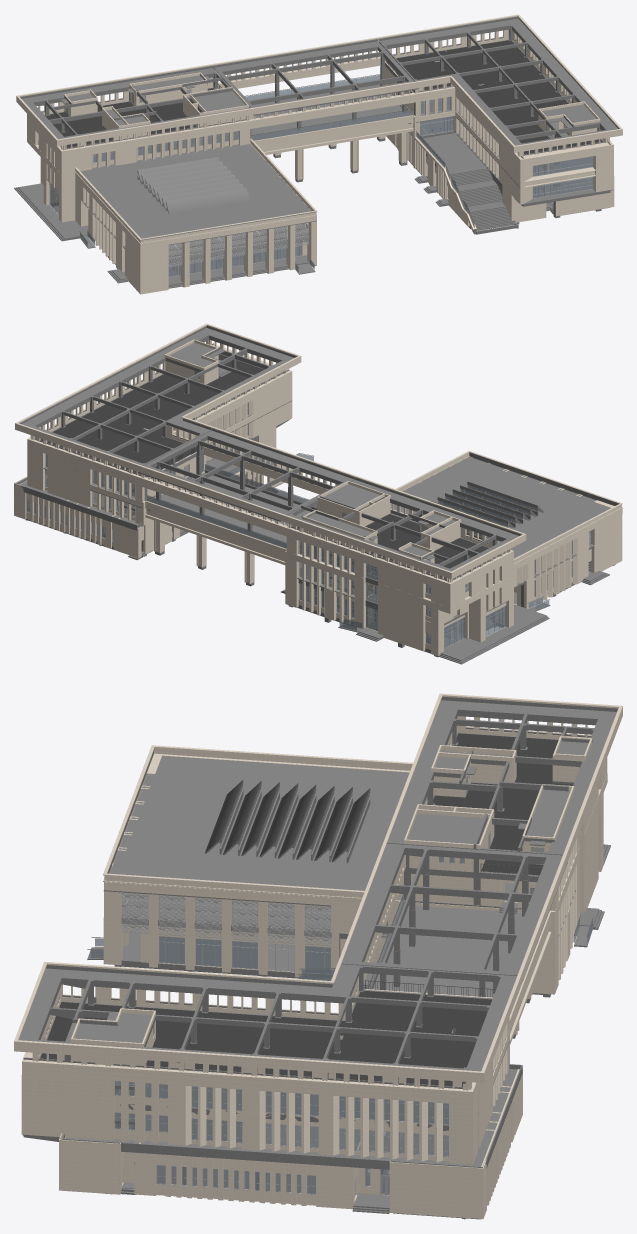
Rendered from hqzx.gltf.
The picture shows the model from 3 angles, top to bottom: view 1: azimuth 30°, elevation 25°; view 2: azimuth 150°, elevation 25°; view 3: azimuth 270°, elevation 25°; orthographic projection. The views are drawn at different scales.
Visible parts, largest first — view 1: hqzxdc01, hqzx3c01, hqzx2c01, hqzx1c01; view 2: hqzxdc01, hqzx3c01, hqzx1c01, hqzx2c01; view 3: hqzxdc01, hqzx3c01, hqzx1c01, hqzx2c01.
Boxes of the visible parts, x1=… form: hqzxdc01: x1=16, y1=14, x2=622, y2=167; hqzx3c01: x1=27, y1=39, x2=613, y2=249; hqzx2c01: x1=43, y1=84, x2=613, y2=267; hqzx1c01: x1=14, y1=125, x2=614, y2=294; hqzxdc01: x1=15, y1=323, x2=526, y2=592; hqzx3c01: x1=27, y1=354, x2=622, y2=613; hqzx1c01: x1=14, y1=426, x2=622, y2=664; hqzx2c01: x1=16, y1=395, x2=622, y2=626; hqzxdc01: x1=14, y1=693, x2=622, y2=1105; hqzx3c01: x1=21, y1=732, x2=607, y2=1130; hqzx1c01: x1=59, y1=819, x2=610, y2=1219; hqzx2c01: x1=21, y1=759, x2=603, y2=1169.
Bounding box in the file's own units: 104 × 19.35 × 69.19.
Materials: 7 (4 with a texture image).
